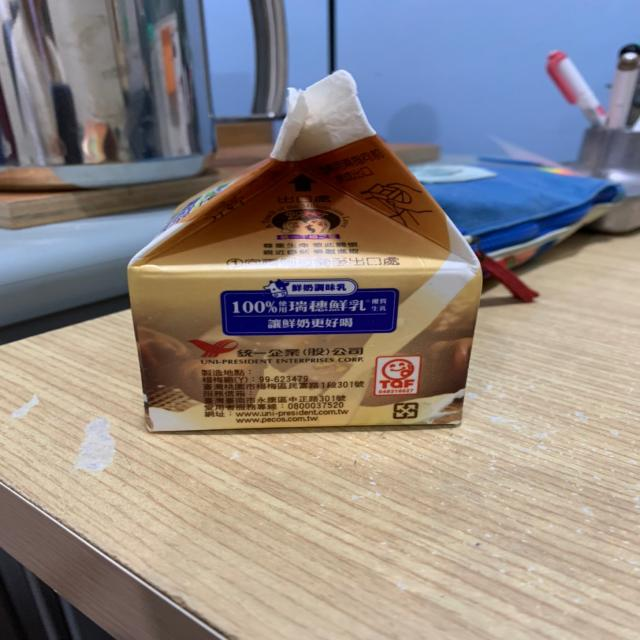non_white_jug: (124, 65, 512, 454)
